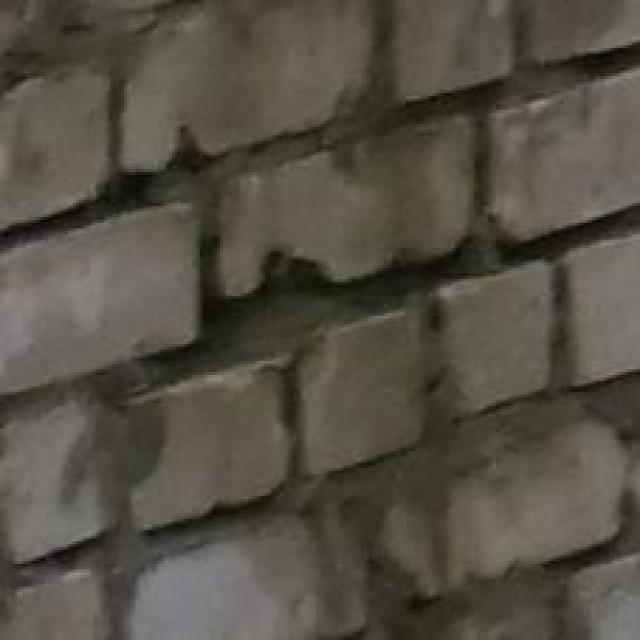Crack: (0, 96, 640, 410)
